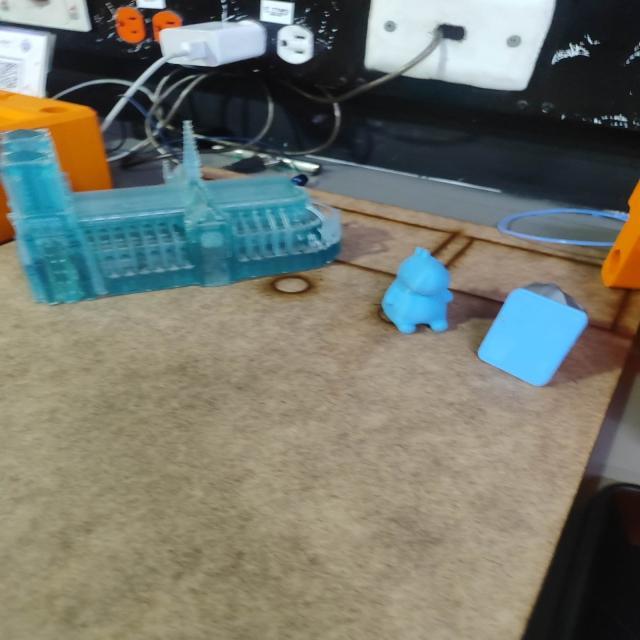DINO: (377, 245, 460, 338)
